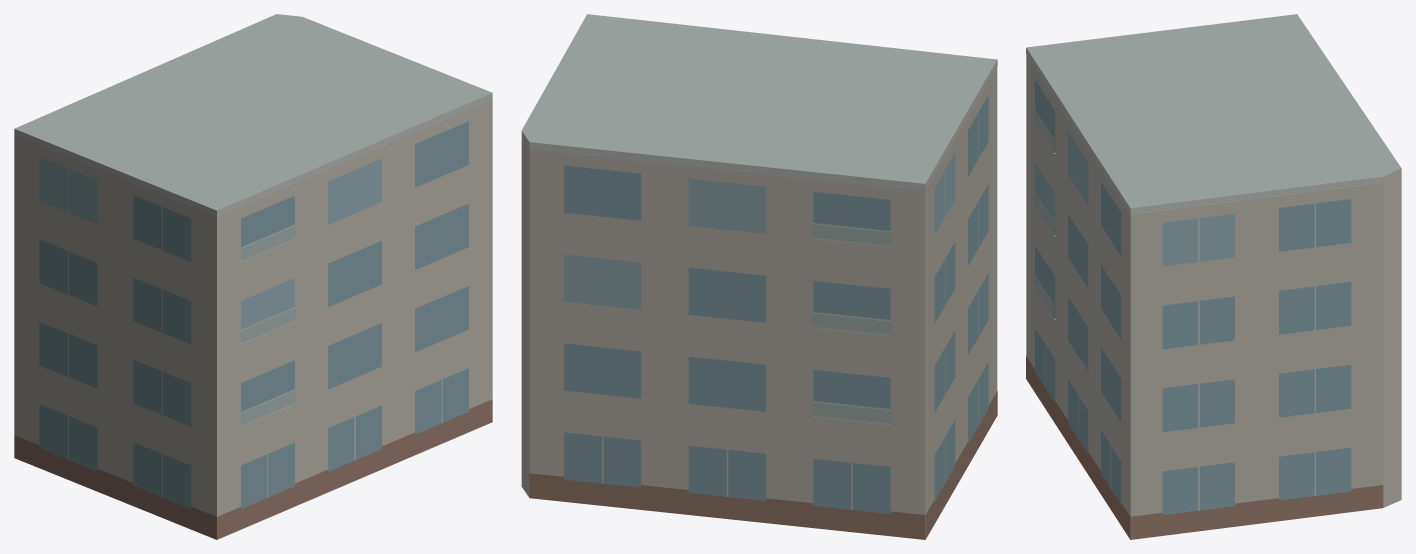
File: survey-upis-32622141.glb
The picture shows the model from 3 angles, left to right: view 1: azimuth 30°, elevation 25°; view 2: azimuth 150°, elevation 25°; view 3: azimuth 270°, elevation 25°; orthographic projection. The views are drawn at different scales.
Parts seen in each view (by area): view 1: survey-upis-32622141.tmp; view 2: survey-upis-32622141.tmp; view 3: survey-upis-32622141.tmp.
Part boxes in pixels (box(x1,y1,x2,y2)): survey-upis-32622141.tmp: box(14, 14, 492, 539); survey-upis-32622141.tmp: box(521, 14, 997, 539); survey-upis-32622141.tmp: box(1026, 14, 1401, 539).
Bounding box in the file's own units: 15.35 × 12.2 × 12.54.
